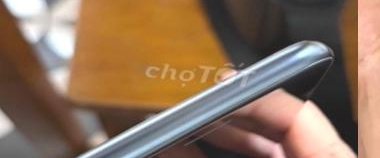scratch: (25, 3, 349, 158)
